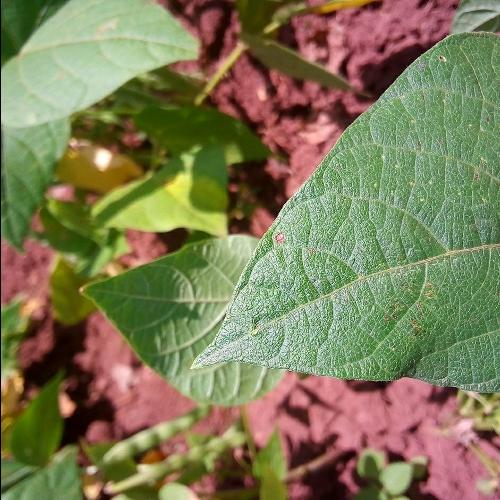hawar: (374, 270, 448, 353), (415, 50, 453, 80), (270, 233, 290, 252)
mozaik: (378, 116, 453, 215)
